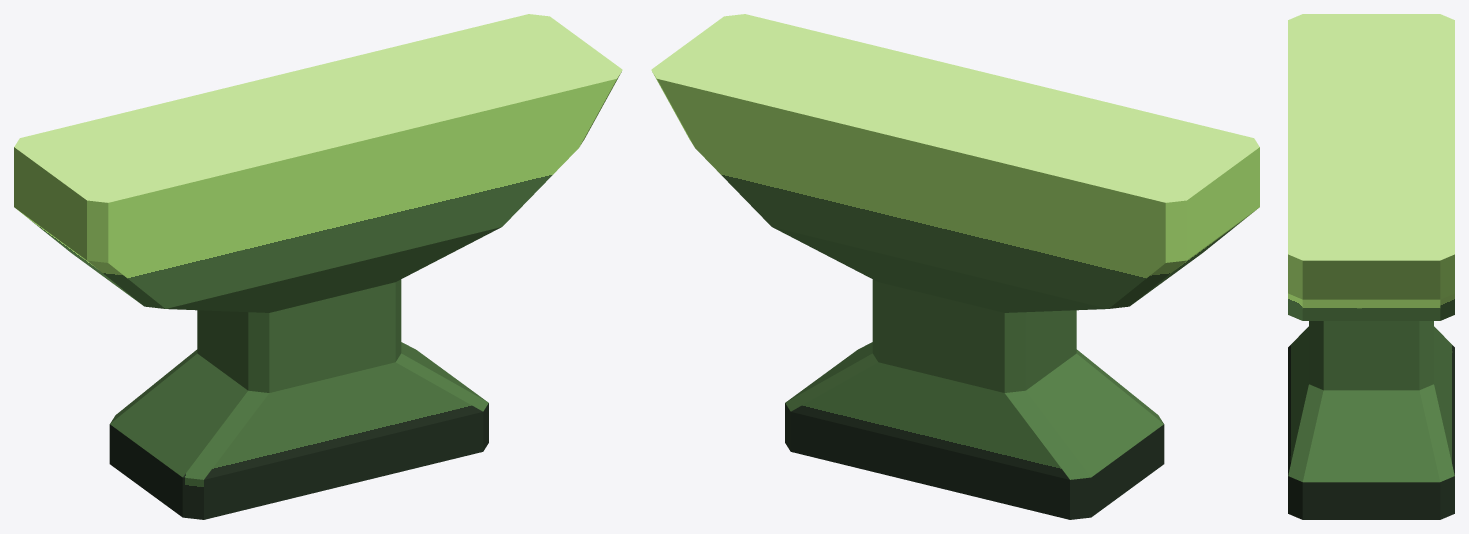
Rendered from forge-mark.glb.
The picture shows the model from 3 angles, left to right: view 1: azimuth 30°, elevation 25°; view 2: azimuth 150°, elevation 25°; view 3: azimuth 270°, elevation 25°; orthographic projection. The views are drawn at different scales.
Visible parts, largest first — view 1: anvil; view 2: anvil; view 3: anvil.
Boxes of the visible parts, left/top/right/bottom form: anvil: left=14, top=14, right=622, bottom=519; anvil: left=651, top=14, right=1259, bottom=519; anvil: left=1288, top=14, right=1454, bottom=519.
Size of the model in its own units: 1.75 by 1.06 by 0.5.
Materials: 1 (1 with a texture image).
